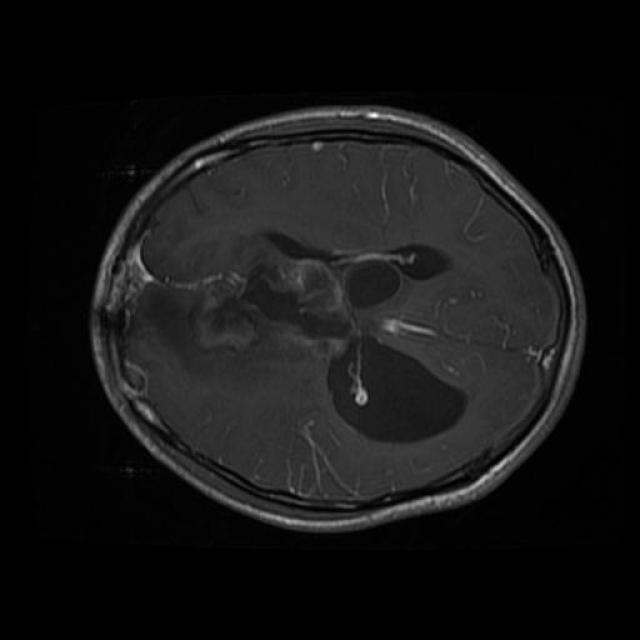Glioma: (170, 233, 466, 442)
